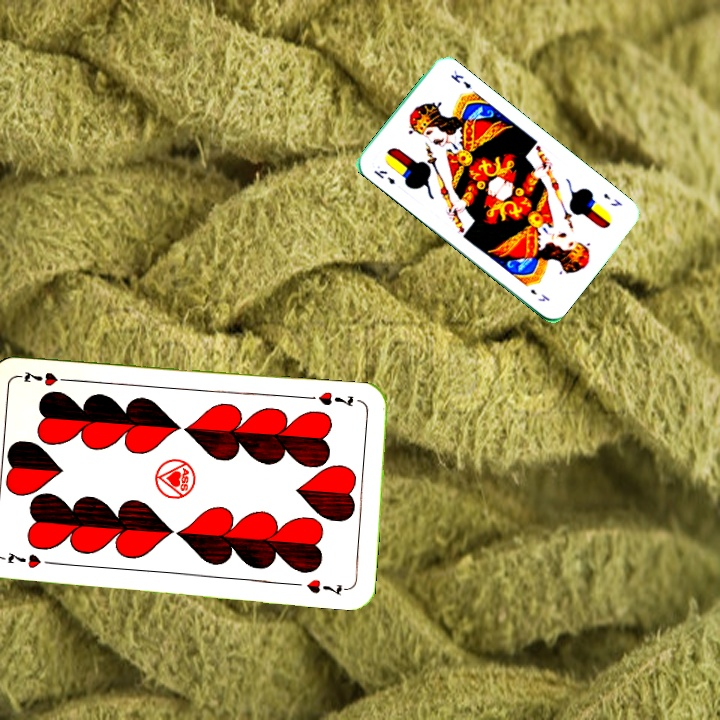EK: (370, 166, 398, 187), (599, 189, 625, 209)
H7: (1, 548, 60, 571), (314, 387, 356, 409)
